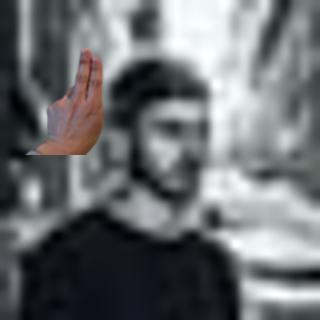DHAVE: (42, 45, 110, 151)
